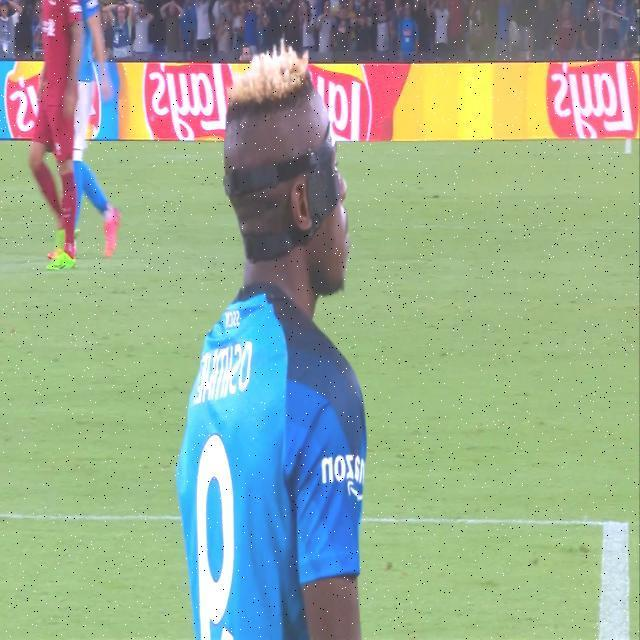player: (173, 42, 363, 640), (65, 0, 113, 262)
